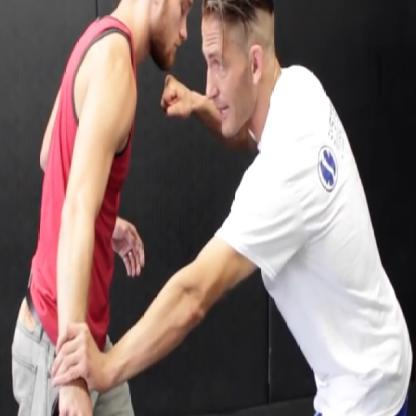knife: (48, 388, 163, 415)
